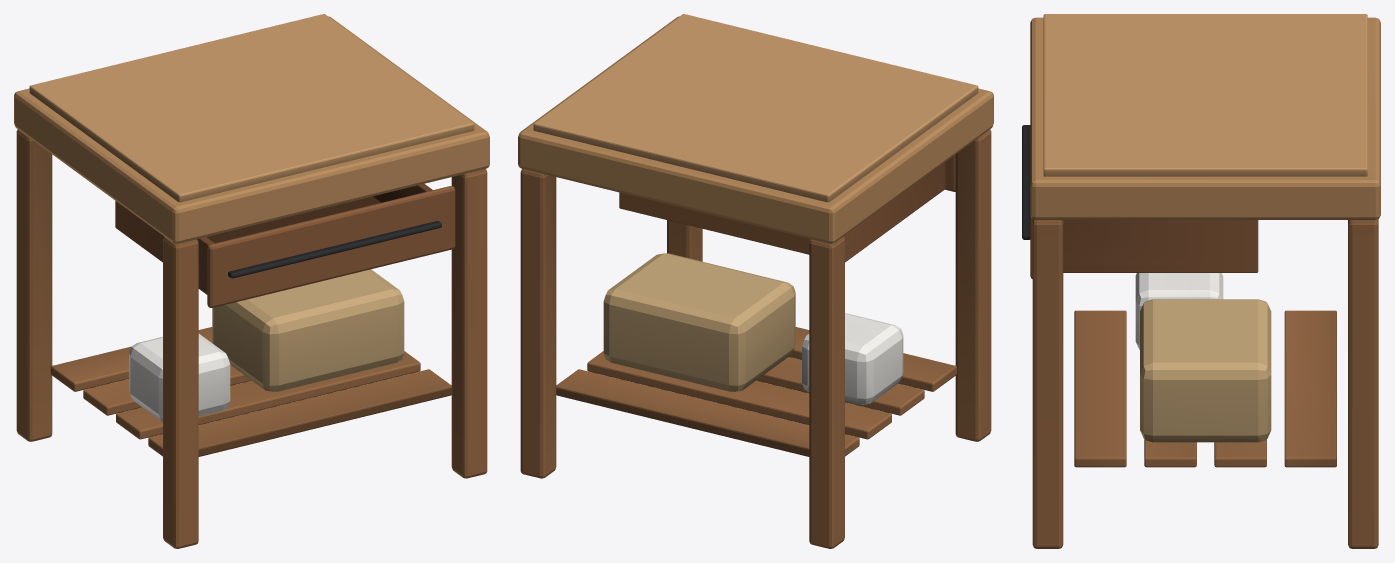
Rendered from butcherBlock.glb.
3 views of the same model, side by side, from view 1: azimuth 30°, elevation 25°; view 2: azimuth 150°, elevation 25°; view 3: azimuth 270°, elevation 25° (orthographic). The views are drawn at different scales.
Parts seen in each view (by area): view 1: body, drawer; view 2: body, drawer; view 3: body, drawer.
Boxes of the visible parts, x1=… form: body: x1=14, y1=14, x2=489, y2=548; drawer: x1=115, y1=183, x2=455, y2=307; body: x1=518, y1=14, x2=993, y2=548; drawer: x1=619, y1=154, x2=955, y2=262; body: x1=1030, y1=14, x2=1380, y2=548; drawer: x1=1022, y1=125, x2=1258, y2=278.
Bounding box in the file's own units: 0.9 × 0.95 × 0.819.
